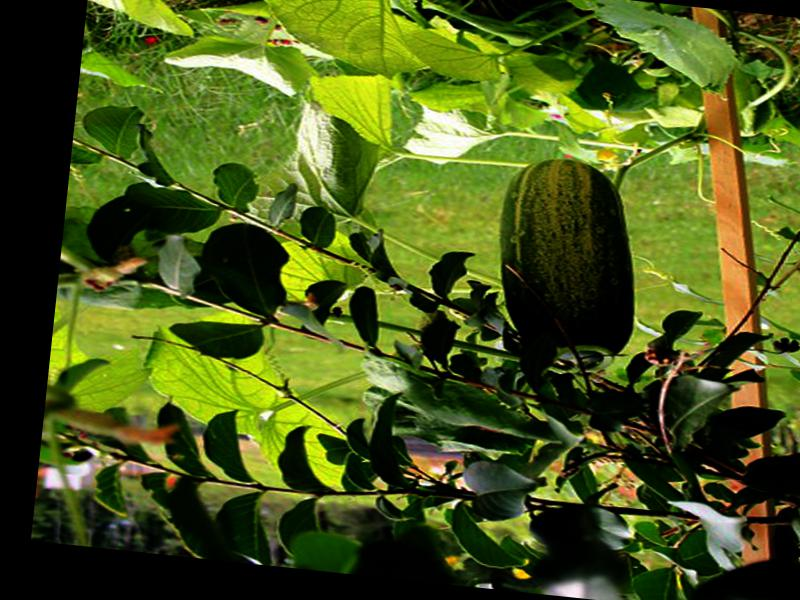Cucumber: (489, 152, 651, 378)
